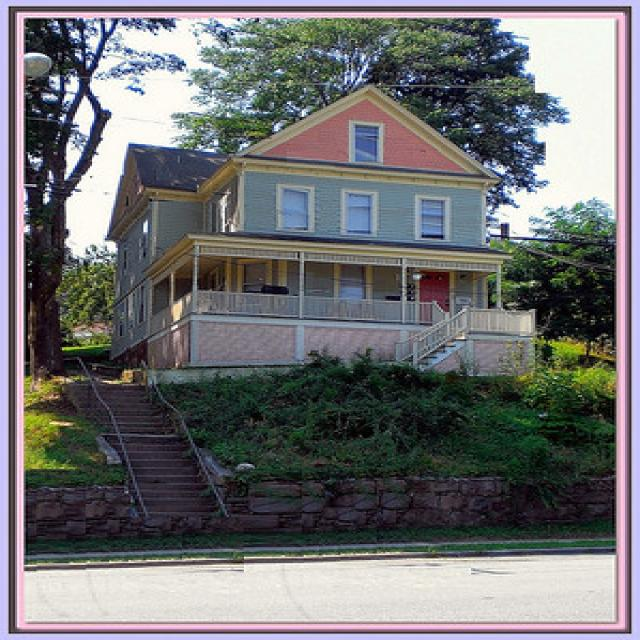building: (104, 82, 538, 393)
